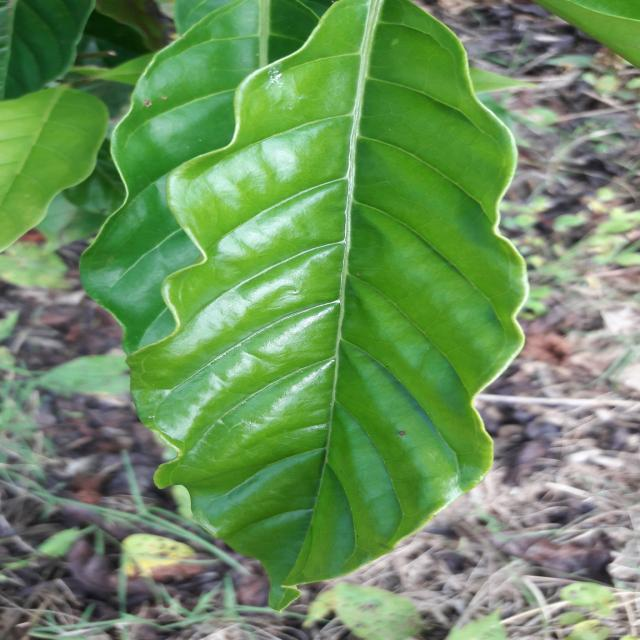Sanas: (127, 0, 527, 589)
